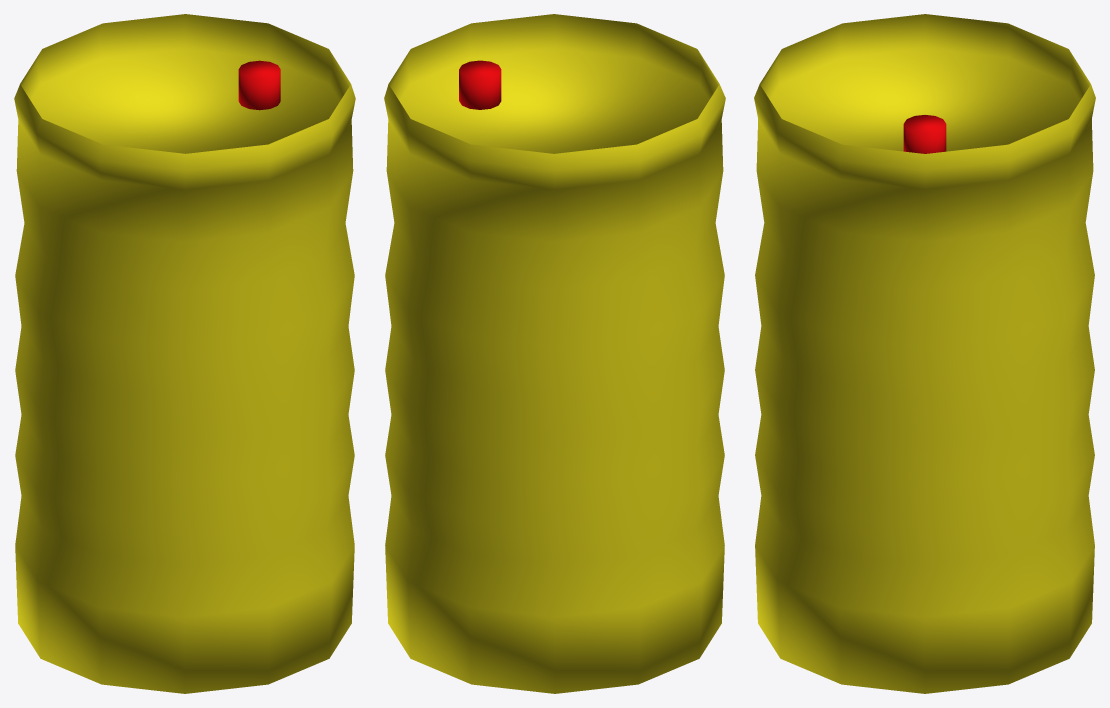
File: lata de gasolina.fbx
The picture shows the model from 3 angles, left to right: view 1: azimuth 30°, elevation 25°; view 2: azimuth 150°, elevation 25°; view 3: azimuth 270°, elevation 25°; orthographic projection.
Parts seen in each view (by area): view 1: Cylinder.027; view 2: Cylinder.027; view 3: Cylinder.027.
Boxes of the visible parts, box(x1,y1,x2,y2) form: Cylinder.027: box(14, 14, 355, 693); Cylinder.027: box(384, 14, 725, 693); Cylinder.027: box(754, 14, 1095, 693).
Bounding box in the file's own units: 515 × 896 × 515.
